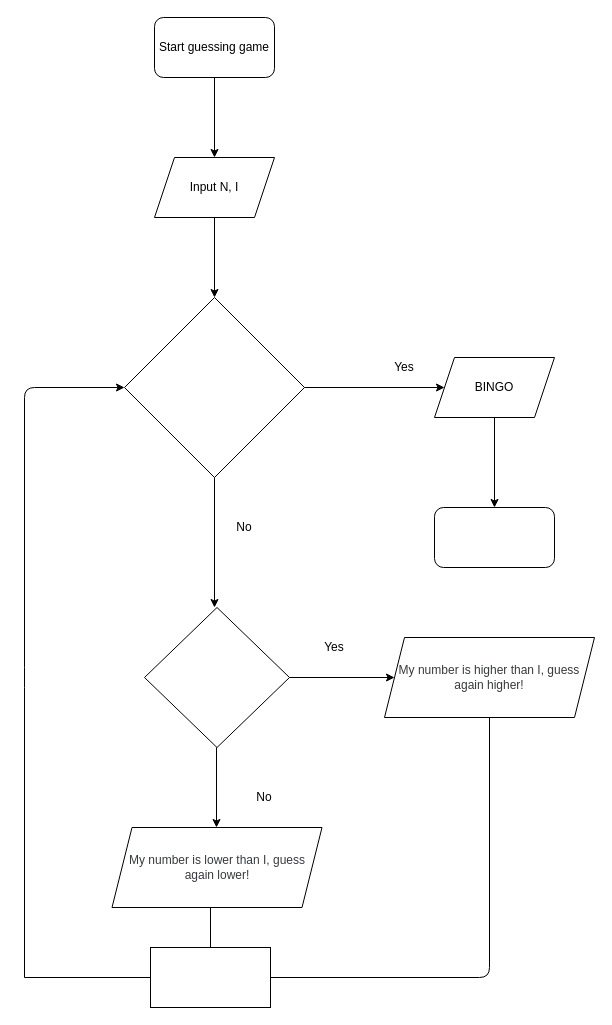
The diagram is 612 pixels wide and 1025 high, and some of its shapes have lost their labels. Each missing label, with the box of its shape:
End of guessing game: (434, 506, 554, 568)
I < N: (144, 606, 290, 748)
I = N ?: (124, 296, 304, 478)
